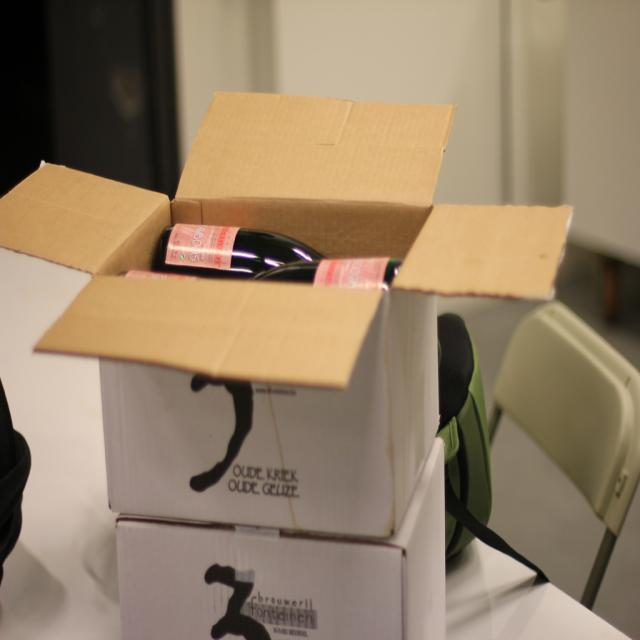Box: (0, 88, 573, 542), (120, 438, 460, 640)
